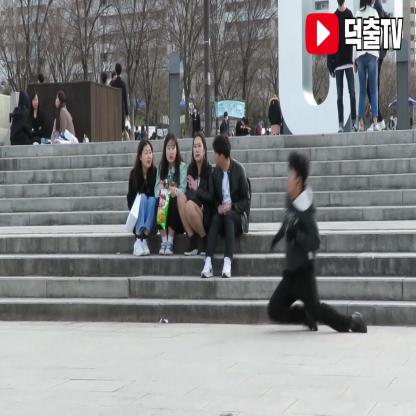Fall_Down: (264, 146, 375, 340)
